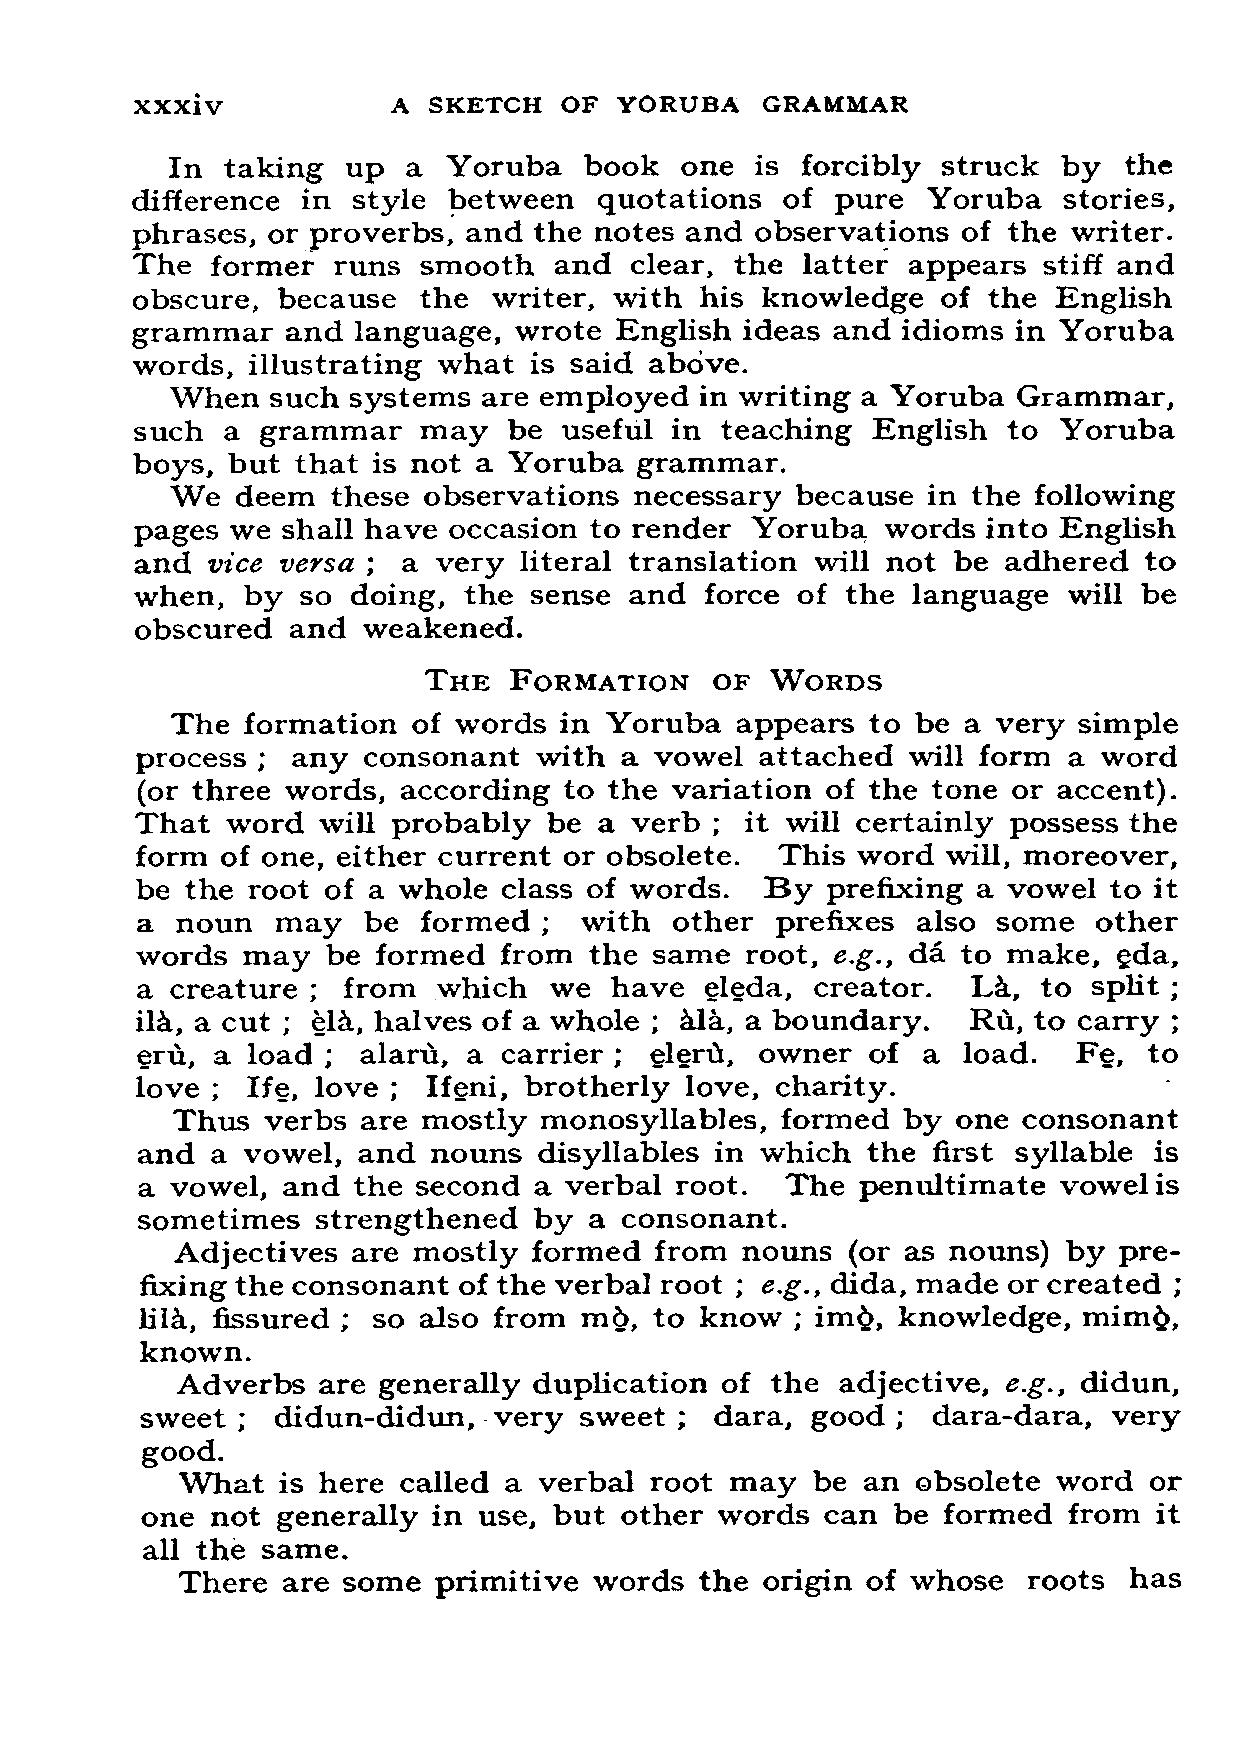chapter: (411, 667, 888, 694)
content: (129, 707, 1193, 1602), (126, 148, 1188, 646)
content_chapter: (386, 89, 911, 118)
content_pagenumber: (132, 91, 227, 119)
